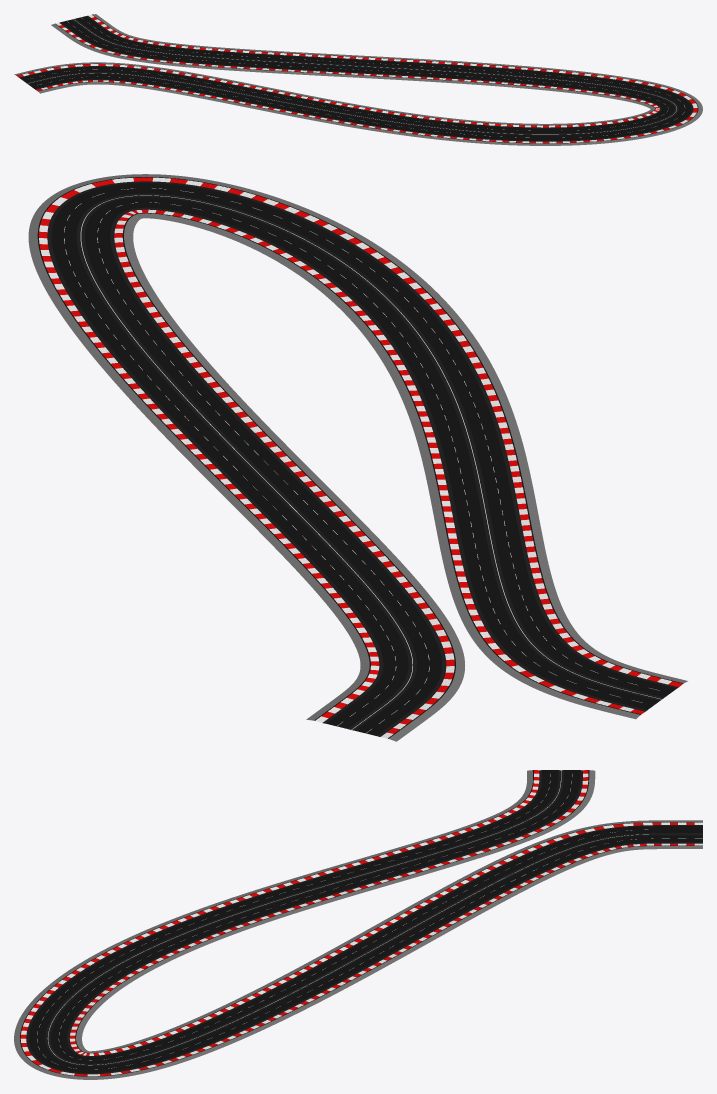
File: S0.2l3-mue.glb
3 views of the same model, one above another, from view 1: azimuth 30°, elevation 25°; view 2: azimuth 150°, elevation 25°; view 3: azimuth 270°, elevation 25° (orthographic). The views are drawn at different scales.
Parts seen in each view (by area): view 1: Grid; view 2: Grid; view 3: Grid.
Boxes of the visible parts, bbox=[...] form: Grid: bbox=[14, 14, 702, 145]; Grid: bbox=[28, 174, 687, 741]; Grid: bbox=[14, 770, 702, 1079].
Bounding box in the file's own units: 269 × 0.31 × 253.
